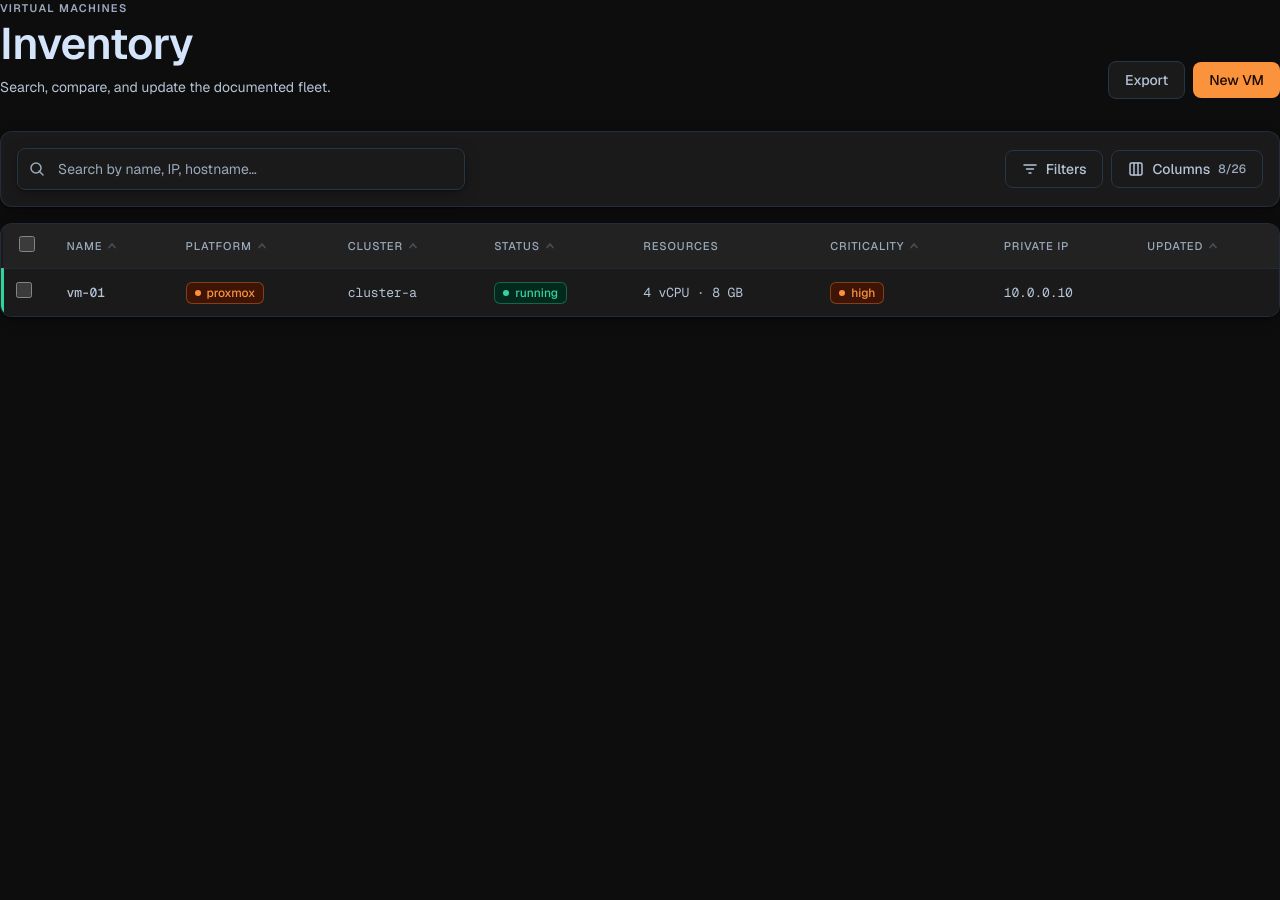
Test: InventoryPage › renders bulk error alert when bulk update has failures
Click the checkbox named "Select vm-01" at (24, 290), box [16,282,32,298]
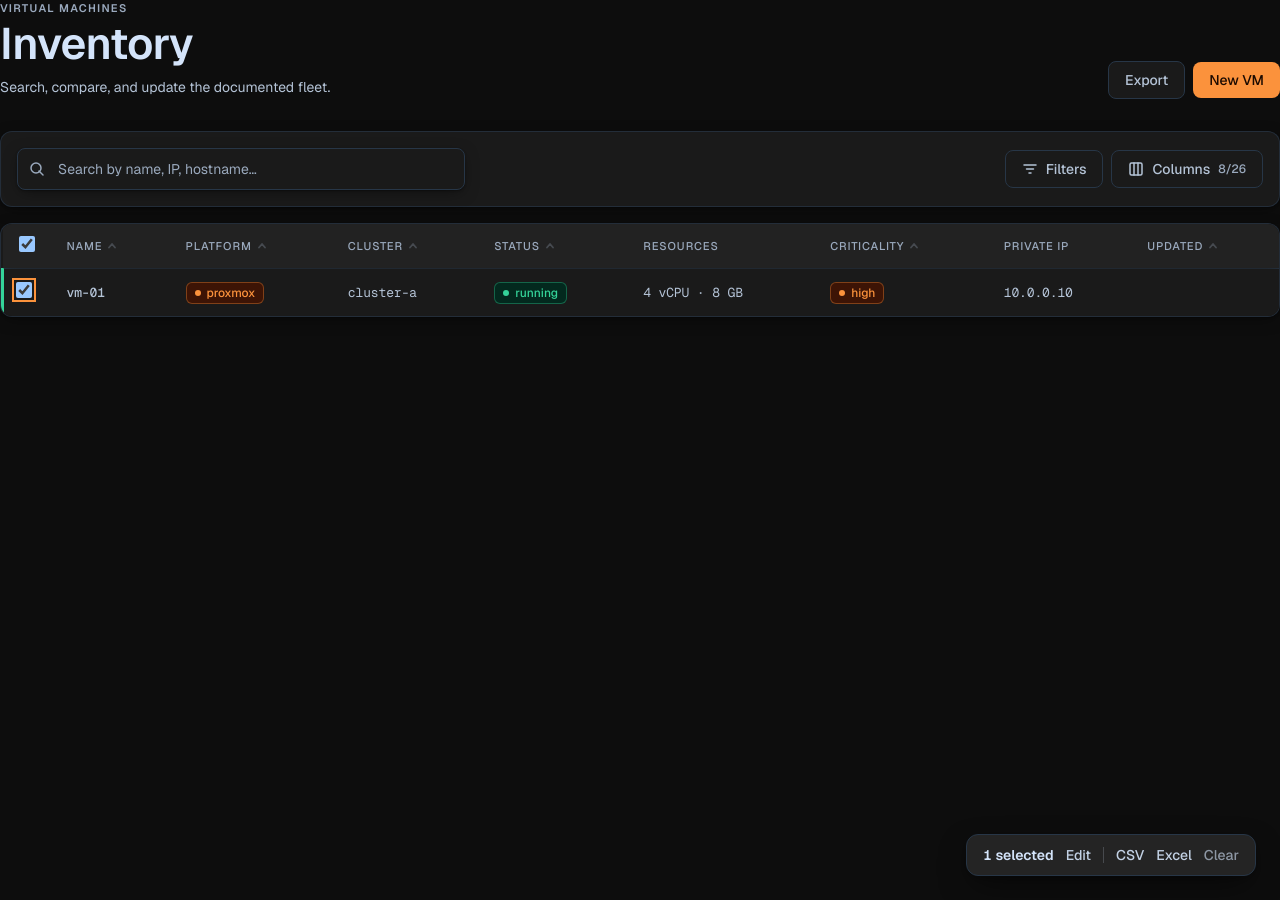
Click the button "Edit" at (1078, 855), box [1066,845,1091,865]
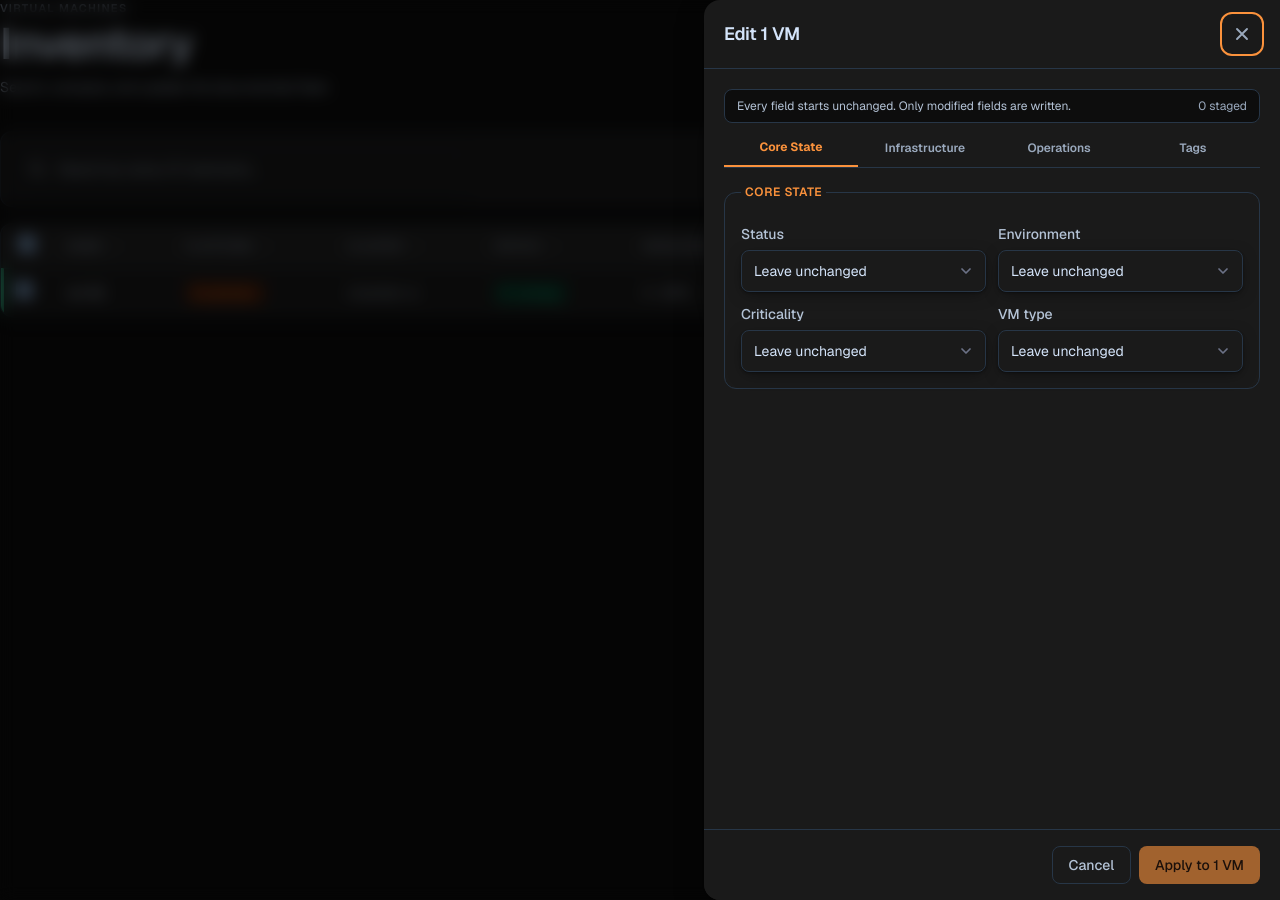
Select "running" in the dropdown labelled "Status" at (864, 271), box [741,250,986,292]
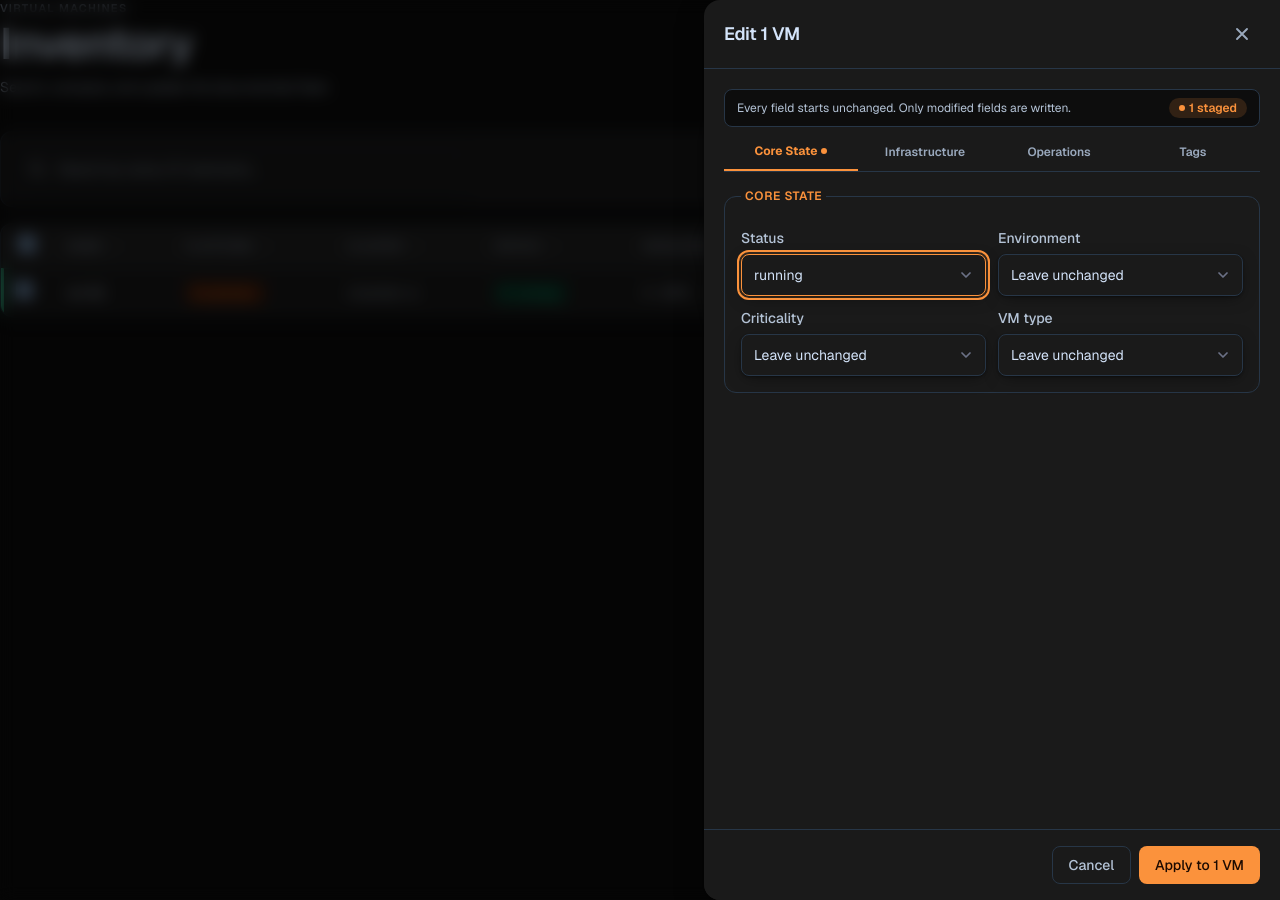
Click the button "Apply to 1 VM" at (1200, 865), box [1139,846,1260,884]
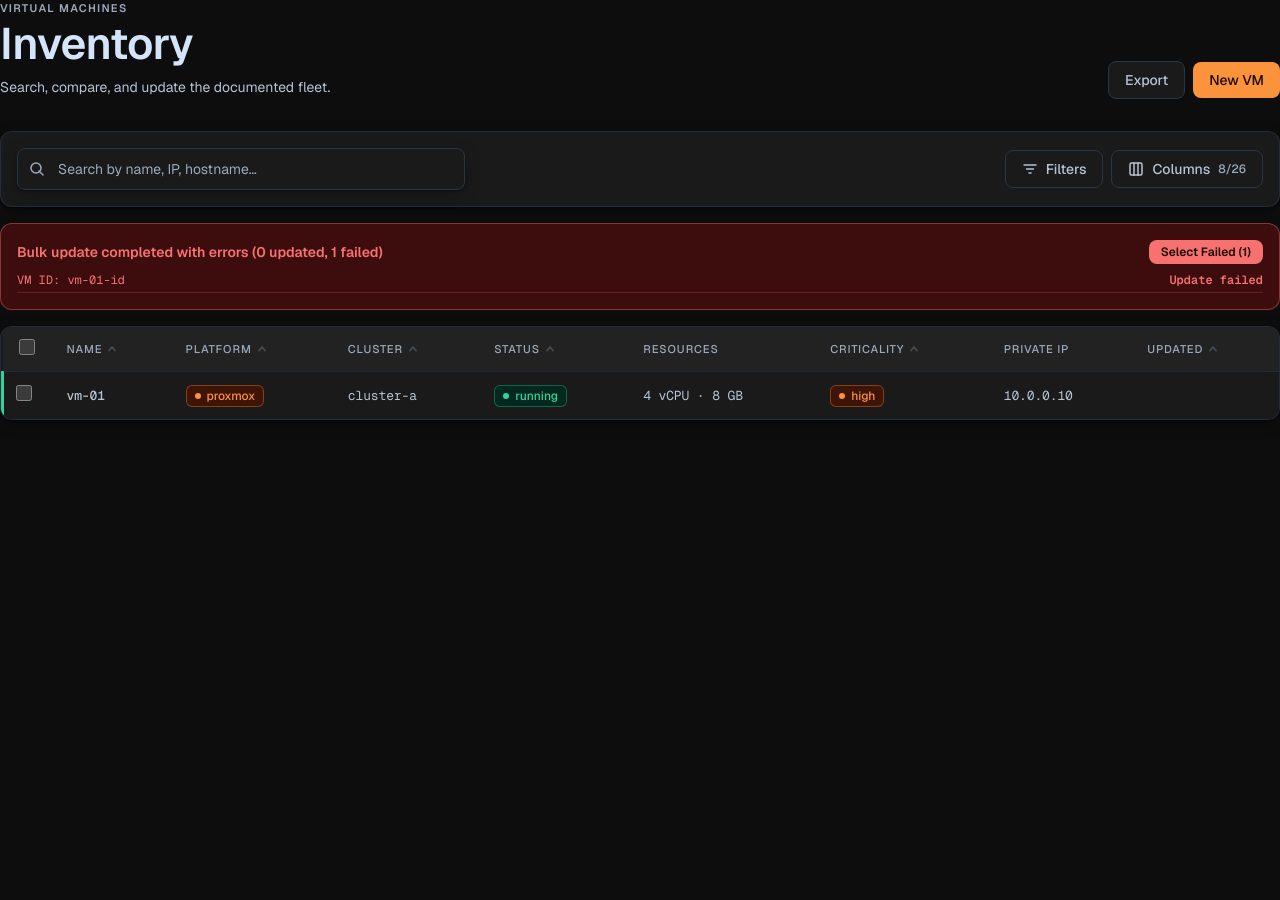
Result: the message shows "0 updated, 1 failed" at [0,223,1279,310]
